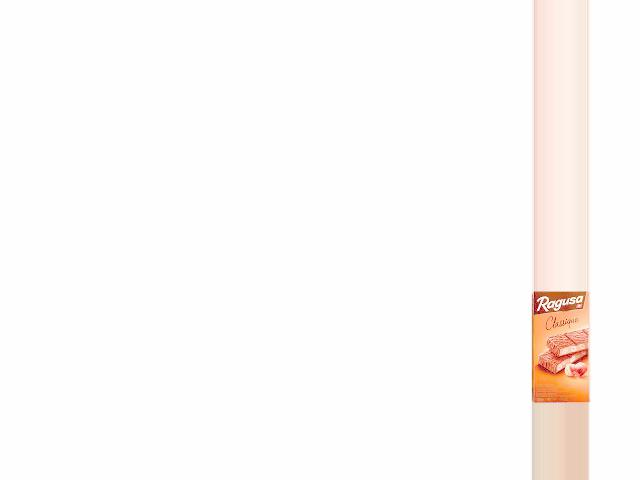chocolate: (528, 292, 596, 403)
